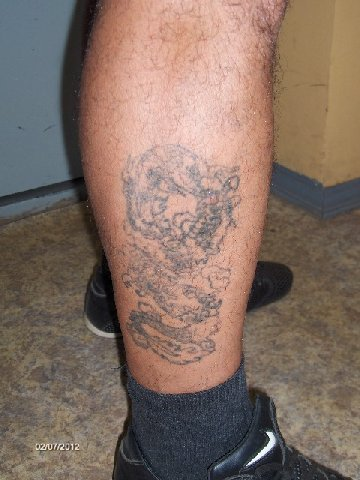tatu6_drakon: (107, 136, 258, 366)
